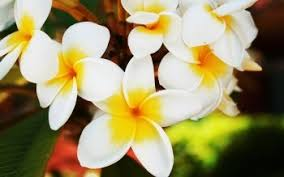frangipani: (80, 56, 200, 177)
